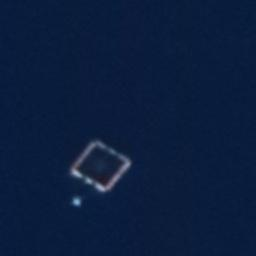square_solid: (65, 133, 136, 198)
